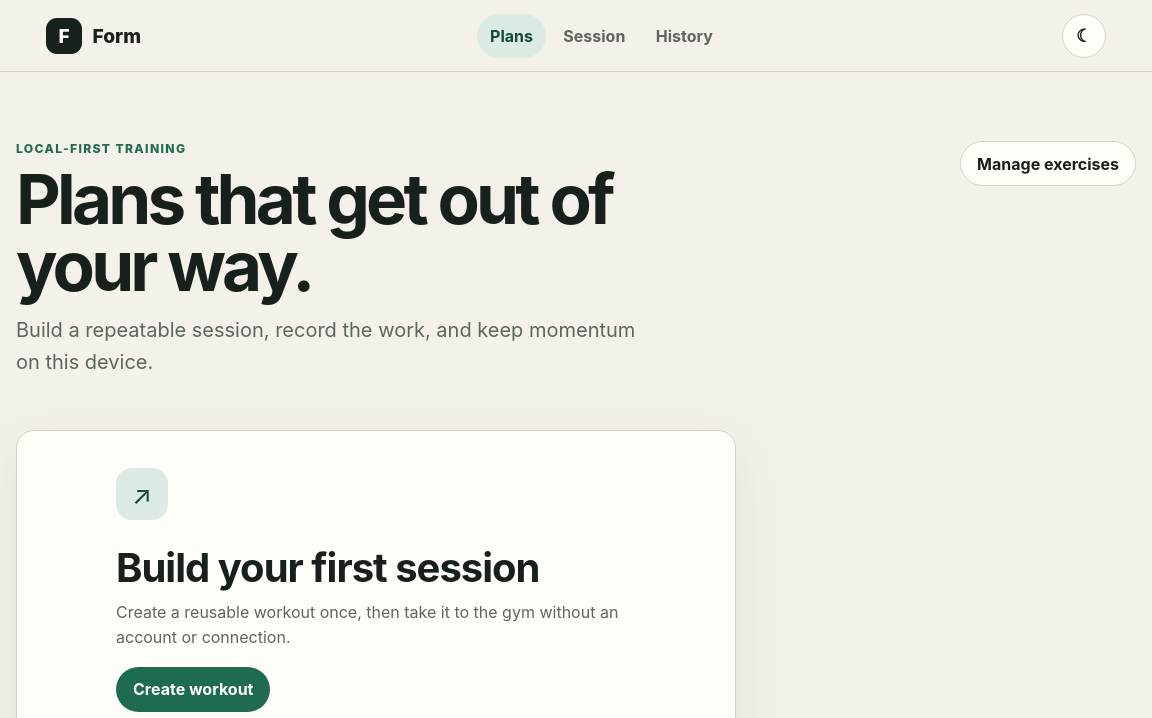
Scenario: Custom Exercises — US1: Create a Custom Exercise › C2: shows validation error for empty name submission
The width and height of the screenshot is (1152, 718).
Click the button "Manage exercises".
click(1048, 164)  # box [960,141,1136,186]
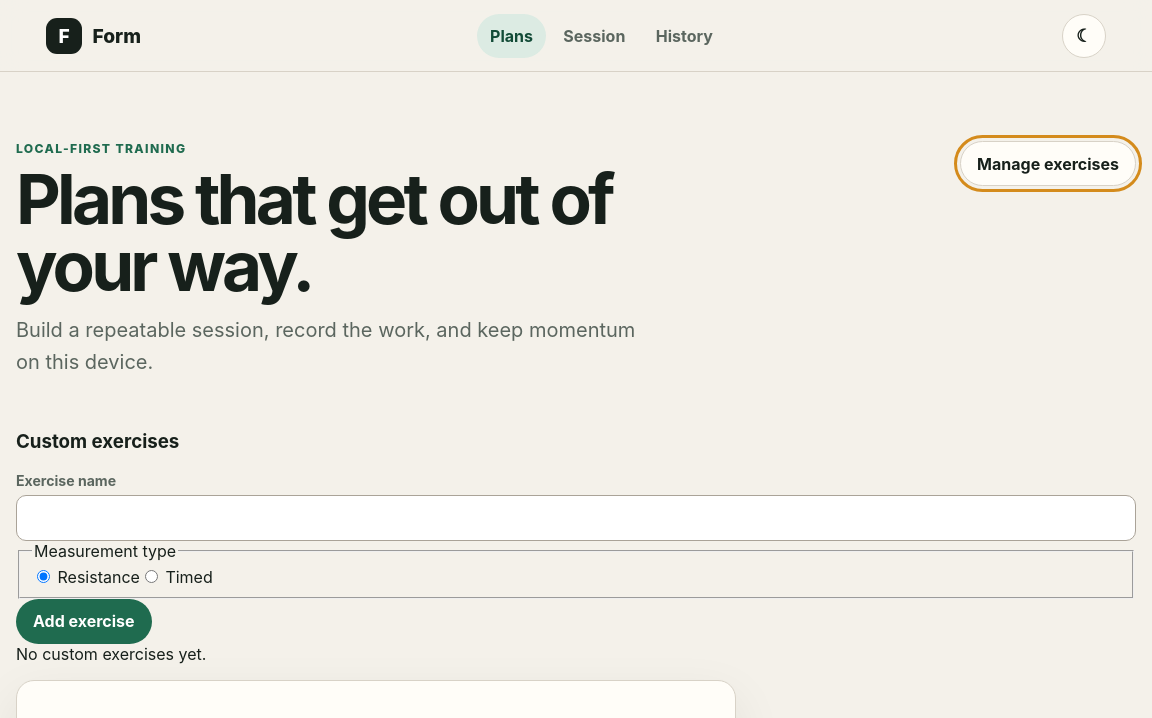
Click the button "Add exercise".
click(84, 621)  # box [16,599,152,644]
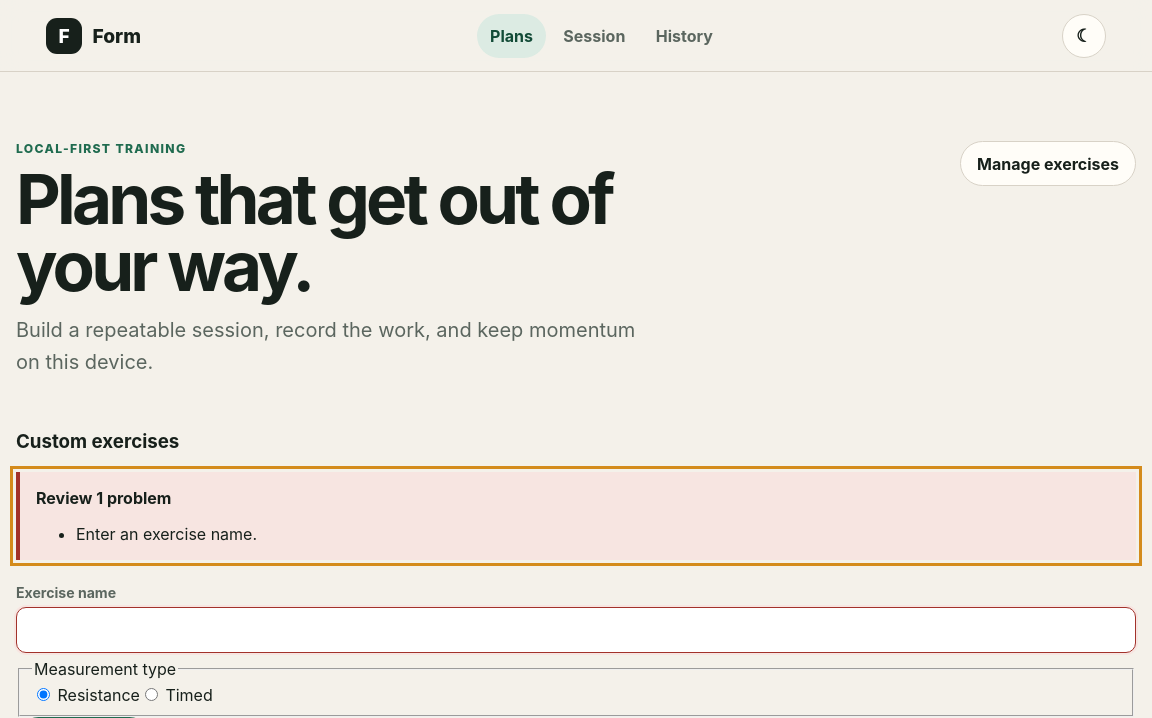
Check: the list item "Enter an exercise name." is shown, box [76,524,257,544]
